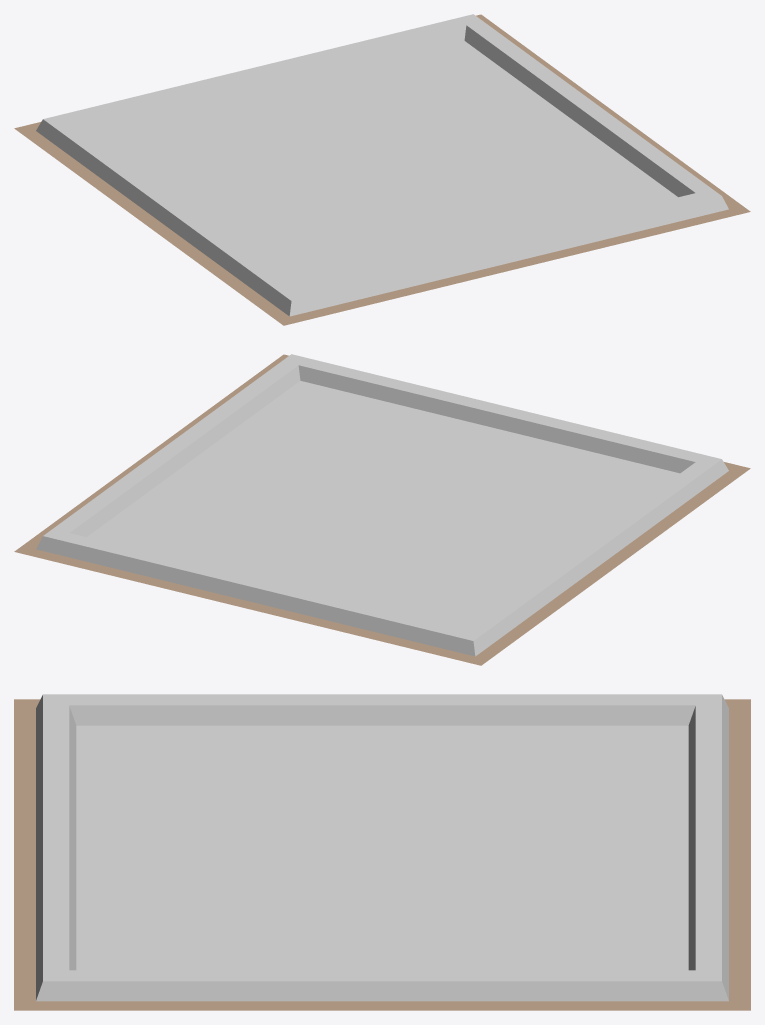
The model's file is Tile_Platform 1.fbx.
3 renders of one model, top to bottom at view 1: azimuth 30°, elevation 25°; view 2: azimuth 150°, elevation 25°; view 3: azimuth 270°, elevation 25°, orthographic. The views are drawn at different scales.
Visible parts, largest first — view 1: Tile_Platform; view 2: Tile_Platform; view 3: Tile_Platform.
Part boxes in pixels (left/top/right/bottom): Tile_Platform: left=14, top=14, right=750, bottom=325; Tile_Platform: left=14, top=354, right=750, bottom=665; Tile_Platform: left=14, top=694, right=750, bottom=1010.
Bounding box in the file's own units: 100 × 2.56 × 100.
